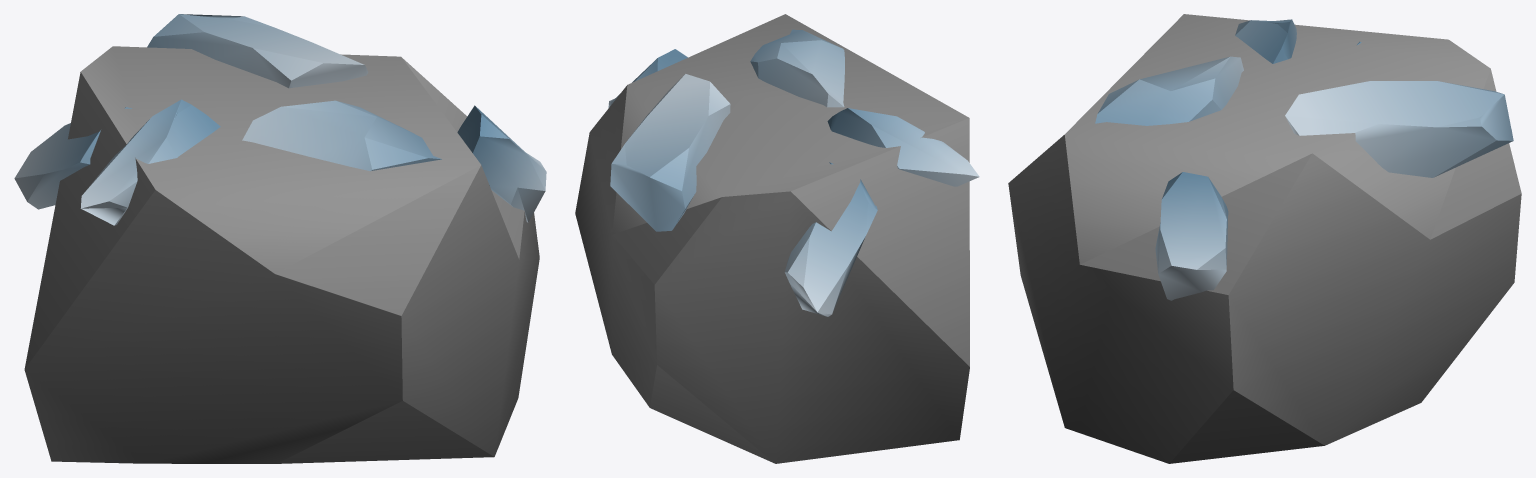
File: Silver_Rock.glb
3 views of the same model, side by side, from view 1: azimuth 30°, elevation 25°; view 2: azimuth 150°, elevation 25°; view 3: azimuth 270°, elevation 25° (orthographic). The views are drawn at different scales.
Visible parts, largest first — view 1: SilverOre_Geo; view 2: SilverOre_Geo; view 3: SilverOre_Geo.
Boxes of the visible parts, x1,y1,x2,y2 form: SilverOre_Geo: (14,14,546,463); SilverOre_Geo: (575,14,979,463); SilverOre_Geo: (1008,14,1521,463).
Bounding box in the file's own units: 0.0487 × 0.0326 × 0.0468.
Materials: 1 (1 with a texture image).
